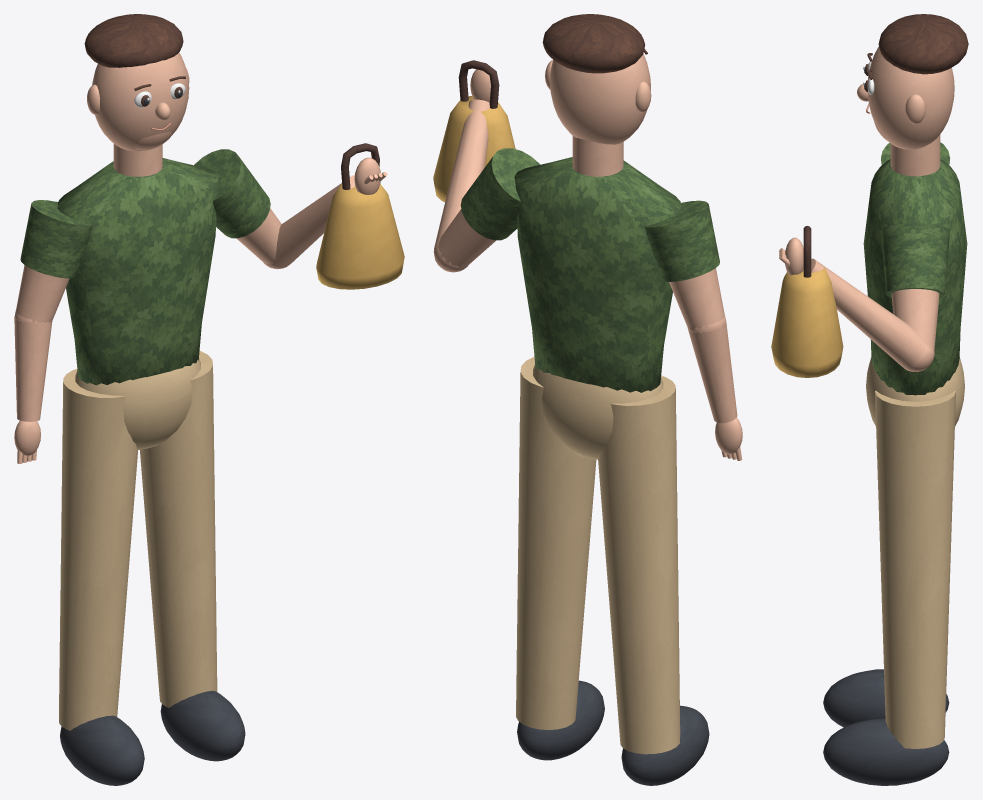
Rendered from spectator_2.glb.
3 views of the same model, side by side, from view 1: azimuth 30°, elevation 25°; view 2: azimuth 150°, elevation 25°; view 3: azimuth 270°, elevation 25° (orthographic). The views are drawn at different scales.
Parts seen in each view (by area): view 1: spectator_2; view 2: spectator_2; view 3: spectator_2.
Boxes of the visible parts, bbox=[...] form: spectator_2: bbox=[14, 14, 404, 785]; spectator_2: bbox=[433, 14, 742, 785]; spectator_2: bbox=[771, 14, 968, 785].
Size of the model in its own units: 0.8771 by 1.8 by 0.438.
Materials: 1 (1 with a texture image).
